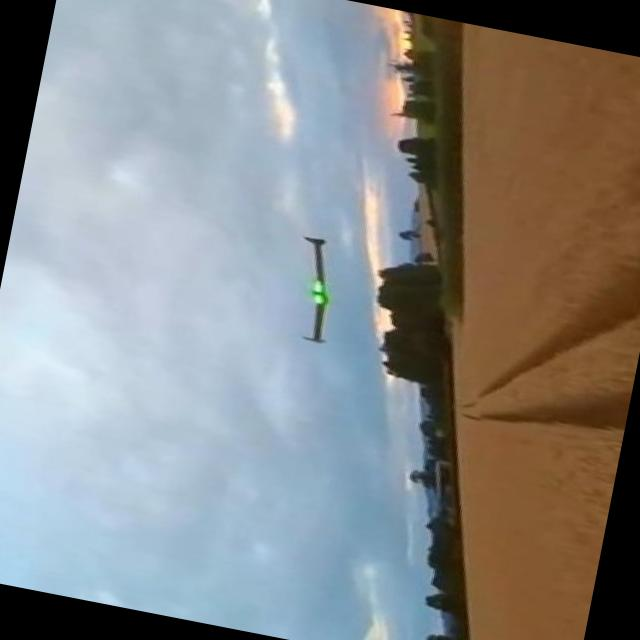UAV: (235, 222, 386, 428)
